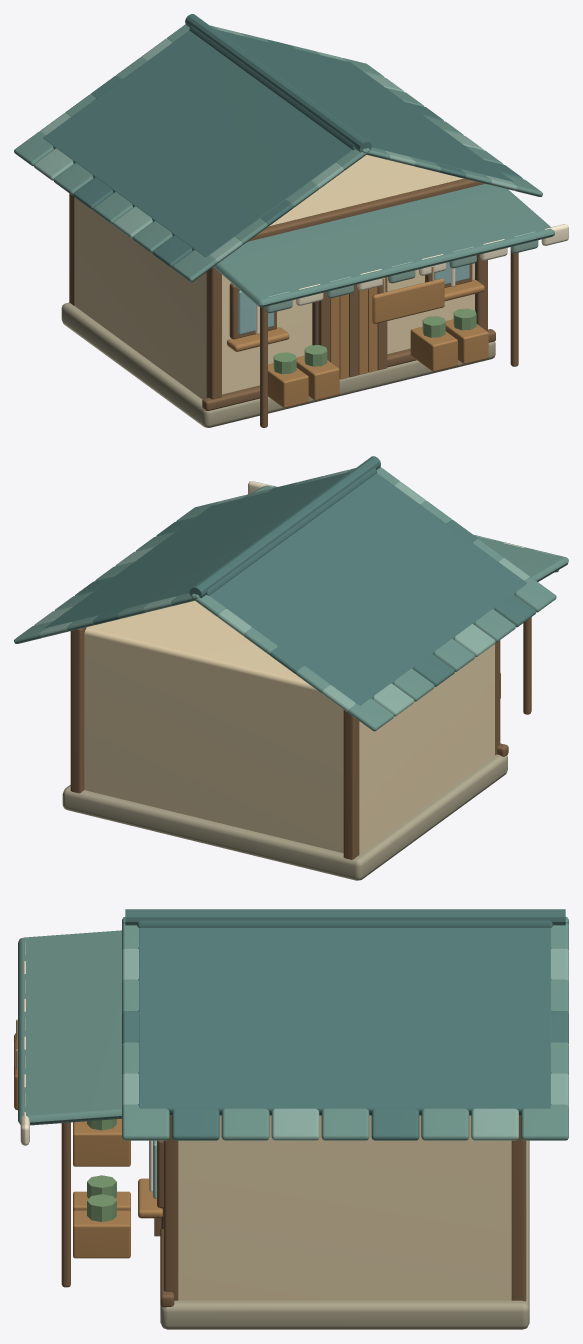
The model's file is seed_shop.glb.
3 views of the same model, one above another, from view 1: azimuth 30°, elevation 25°; view 2: azimuth 150°, elevation 25°; view 3: azimuth 270°, elevation 25° (orthographic). The views are drawn at different scales.
Parts seen in each view (by area): view 1: Roof deck, Rounded roof tile, Storybook walls, Corner oak post, Door plank.001, Cut stone foundation, Rounded roof tile.001, Potted seedling, Window cross, Sea-glass pane; view 2: Storybook walls, Roof deck, Cut stone foundation, Rounded roof tile, Corner oak post, Rounded roof tile.001; view 3: Roof deck, Storybook walls, Rounded roof tile, Cut stone foundation, Corner oak post, Door plank.001, Rounded roof tile.001, Potted seedling, Window cross.
Boxes of the visible parts, box(x1,y1,x2,y2) form: Roof deck: box(43, 14, 522, 267); Rounded roof tile: box(14, 24, 554, 307); Storybook walls: box(74, 155, 474, 399); Corner oak post: box(69, 178, 518, 427); Door plank.001: box(227, 278, 488, 407); Cut stone foundation: box(61, 302, 495, 427); Rounded roof tile.001: box(34, 27, 538, 313); Potted seedling: box(273, 308, 476, 374); Window cross: box(255, 224, 568, 334); Sea-glass pane: box(238, 262, 469, 334); Storybook walls: box(84, 601, 494, 854); Roof deck: box(44, 456, 536, 705); Cut stone foundation: box(62, 754, 507, 880); Rounded roof tile: box(14, 467, 568, 731); Corner oak post: box(70, 617, 531, 859); Rounded roof tile.001: box(34, 469, 558, 716); Roof deck: box(122, 909, 568, 1140); Storybook walls: box(178, 1115, 511, 1300); Rounded roof tile: box(18, 917, 568, 1140); Cut stone foundation: box(160, 1140, 529, 1329); Corner oak post: box(61, 1115, 526, 1307); Door plank.001: box(14, 1033, 162, 1258); Rounded roof tile.001: box(24, 942, 568, 1140); Potted seedling: box(87, 1119, 116, 1221); Window cross: box(20, 961, 152, 1192).
Bounding box in the file's own units: 5.5 × 3.93 × 5.94.
